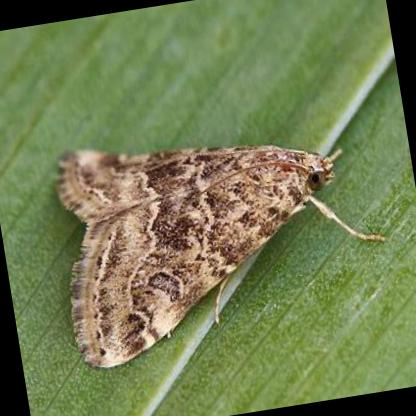Hellula undalis: (54, 143, 386, 375)
